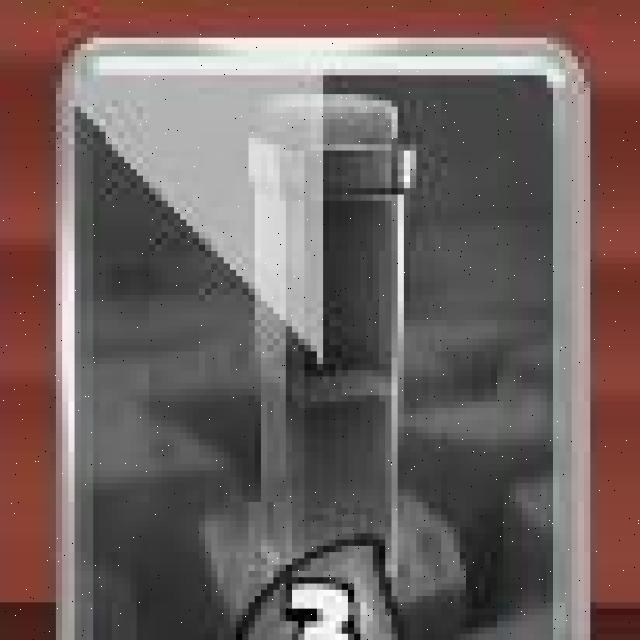Earthquake: (44, 32, 592, 640)
